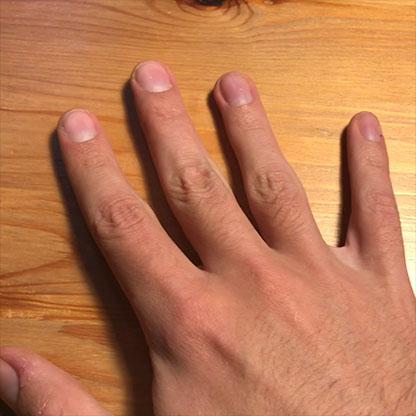fingertip: (122, 53, 181, 105), (212, 69, 267, 118), (349, 106, 395, 157), (58, 106, 104, 150)
